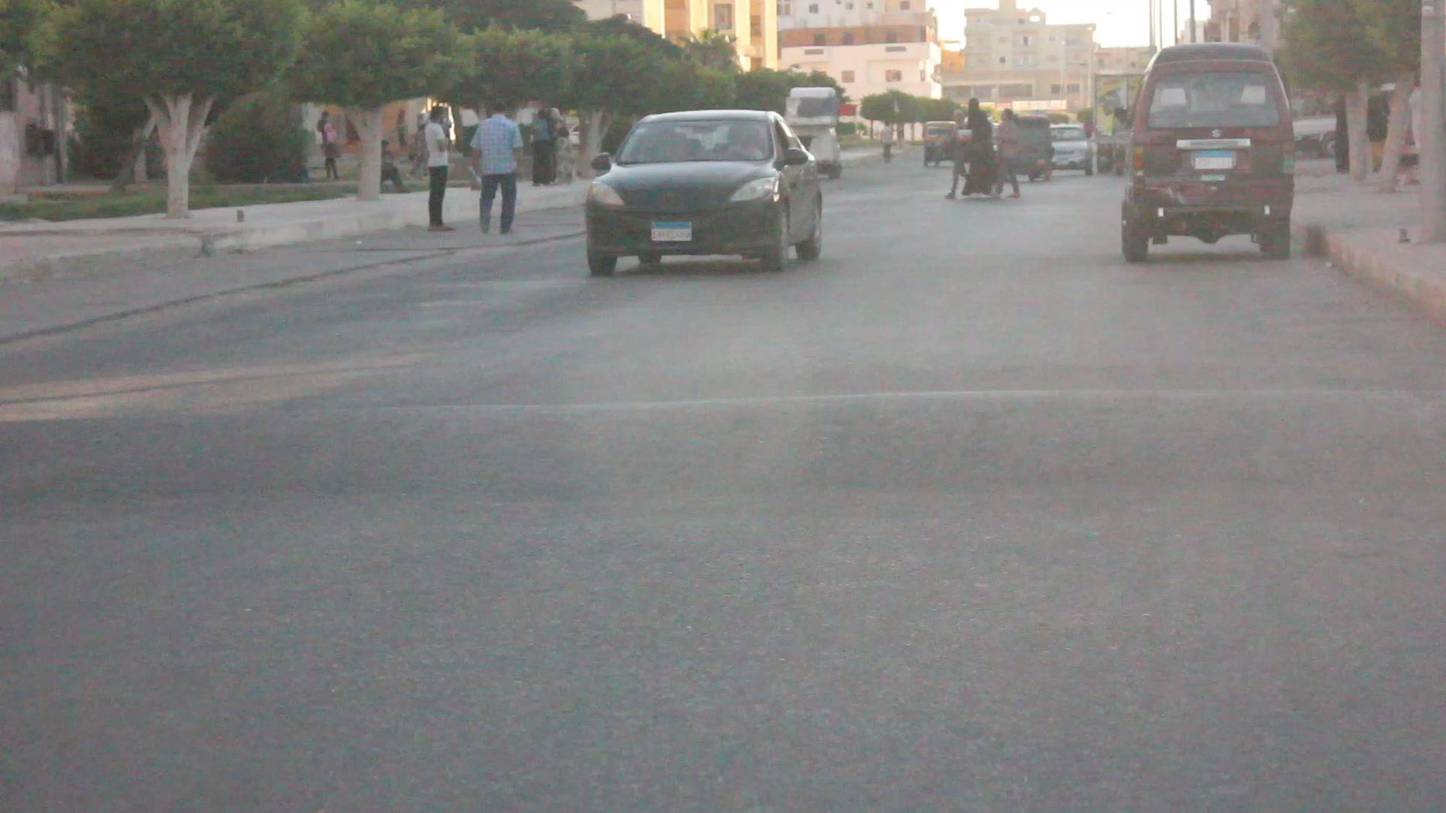Bump: (0, 390, 1446, 523)
